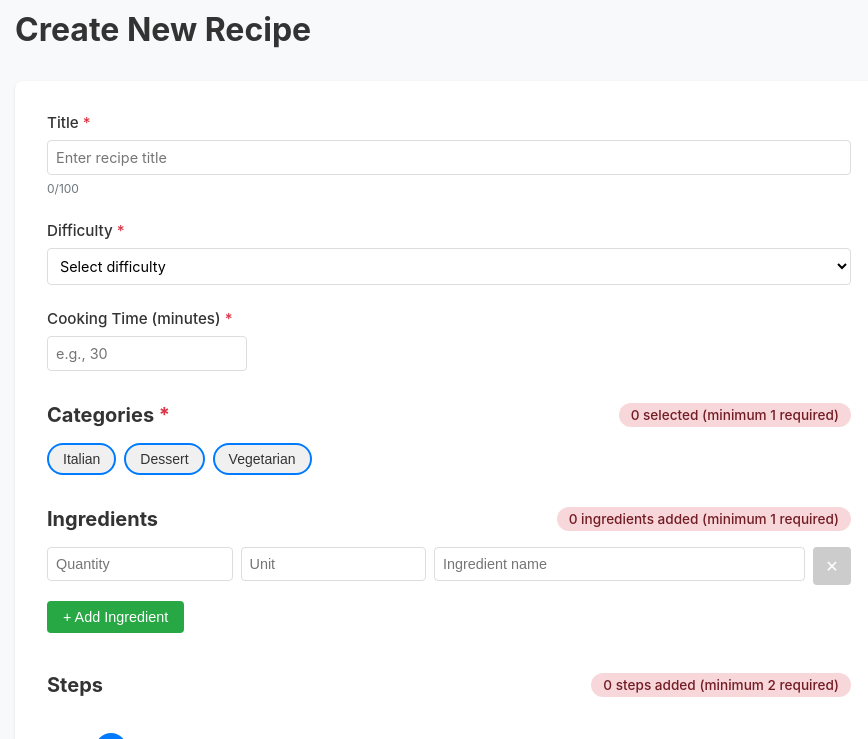
Test: CreateRecipeView › Ingredients Section › updates ingredient count indicator when ingredients are added
The width and height of the screenshot is (868, 739).
Expected: the text "0 ingredients added (minimum 1 required)" is shown, [557,507,851,531]
Type "1" into the field with placeholder "Quantity" at (140,564), box [47,547,232,581]
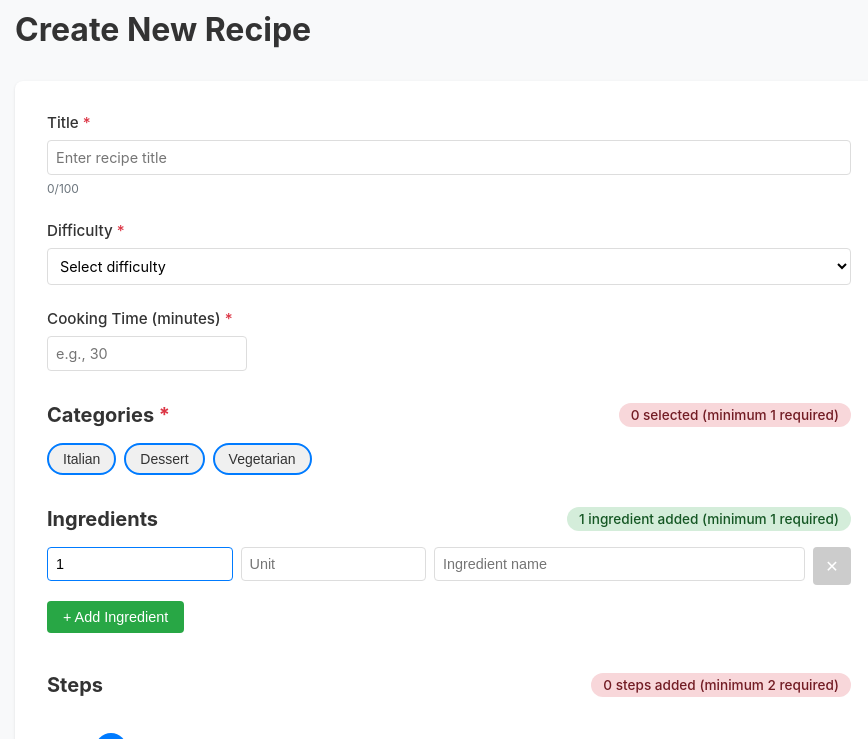
Result: the text "1 ingredient added (minimum 1 required)" is shown at [567,507,851,531]
